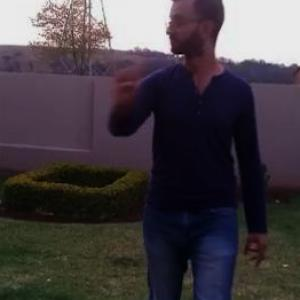takeoff-hand: (102, 42, 146, 102)
